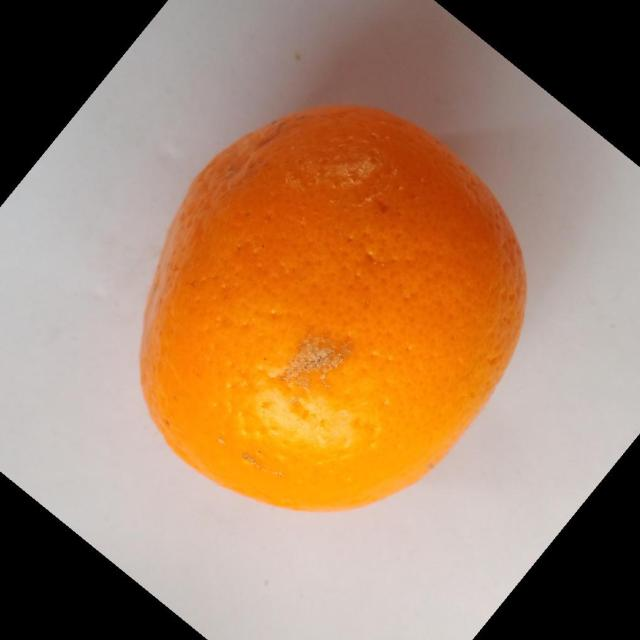fresh orange: (138, 102, 528, 513)
